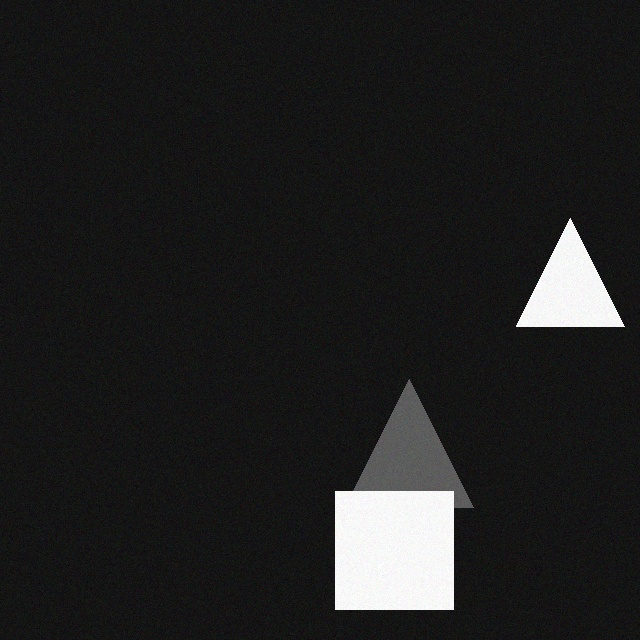square: (339, 484, 457, 602)
triangle: (349, 372, 477, 500), (520, 211, 628, 319)
